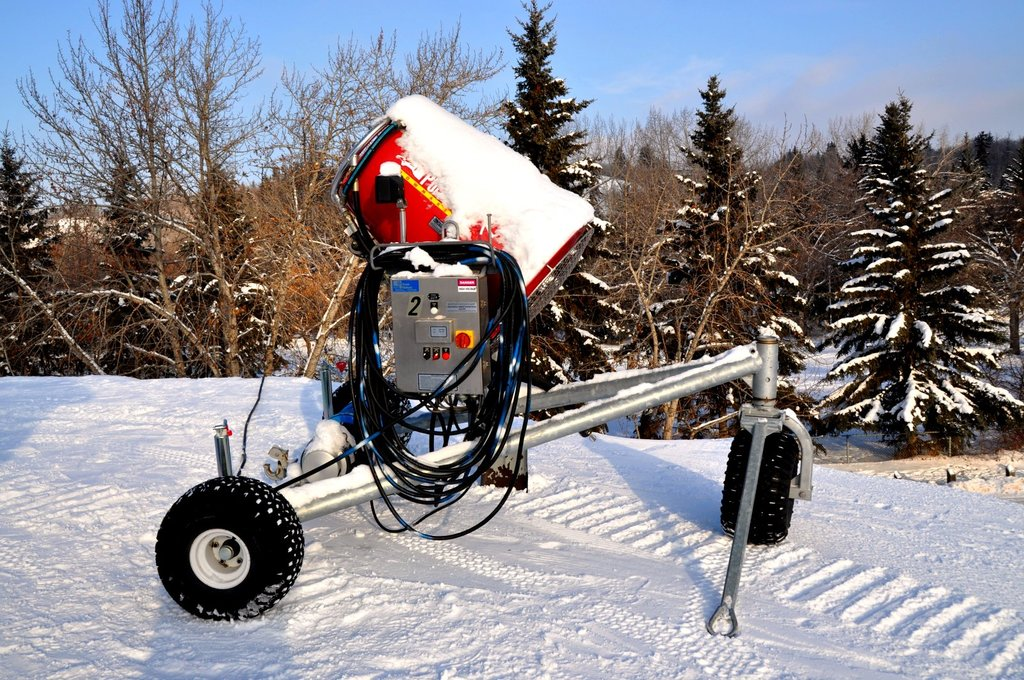Tree: (0, 0, 1024, 459)
